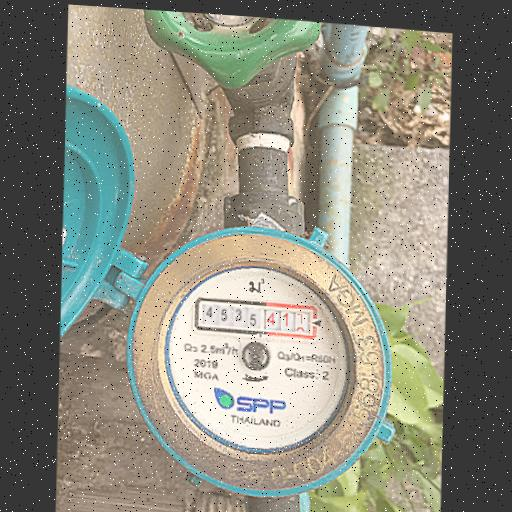1: (280, 312, 293, 332), (296, 313, 308, 333)
3: (234, 307, 246, 327)
4: (265, 311, 278, 331), (204, 305, 216, 325)
5: (248, 309, 260, 329), (219, 307, 231, 326)
border_water_meter_number: (194, 296, 318, 340)
